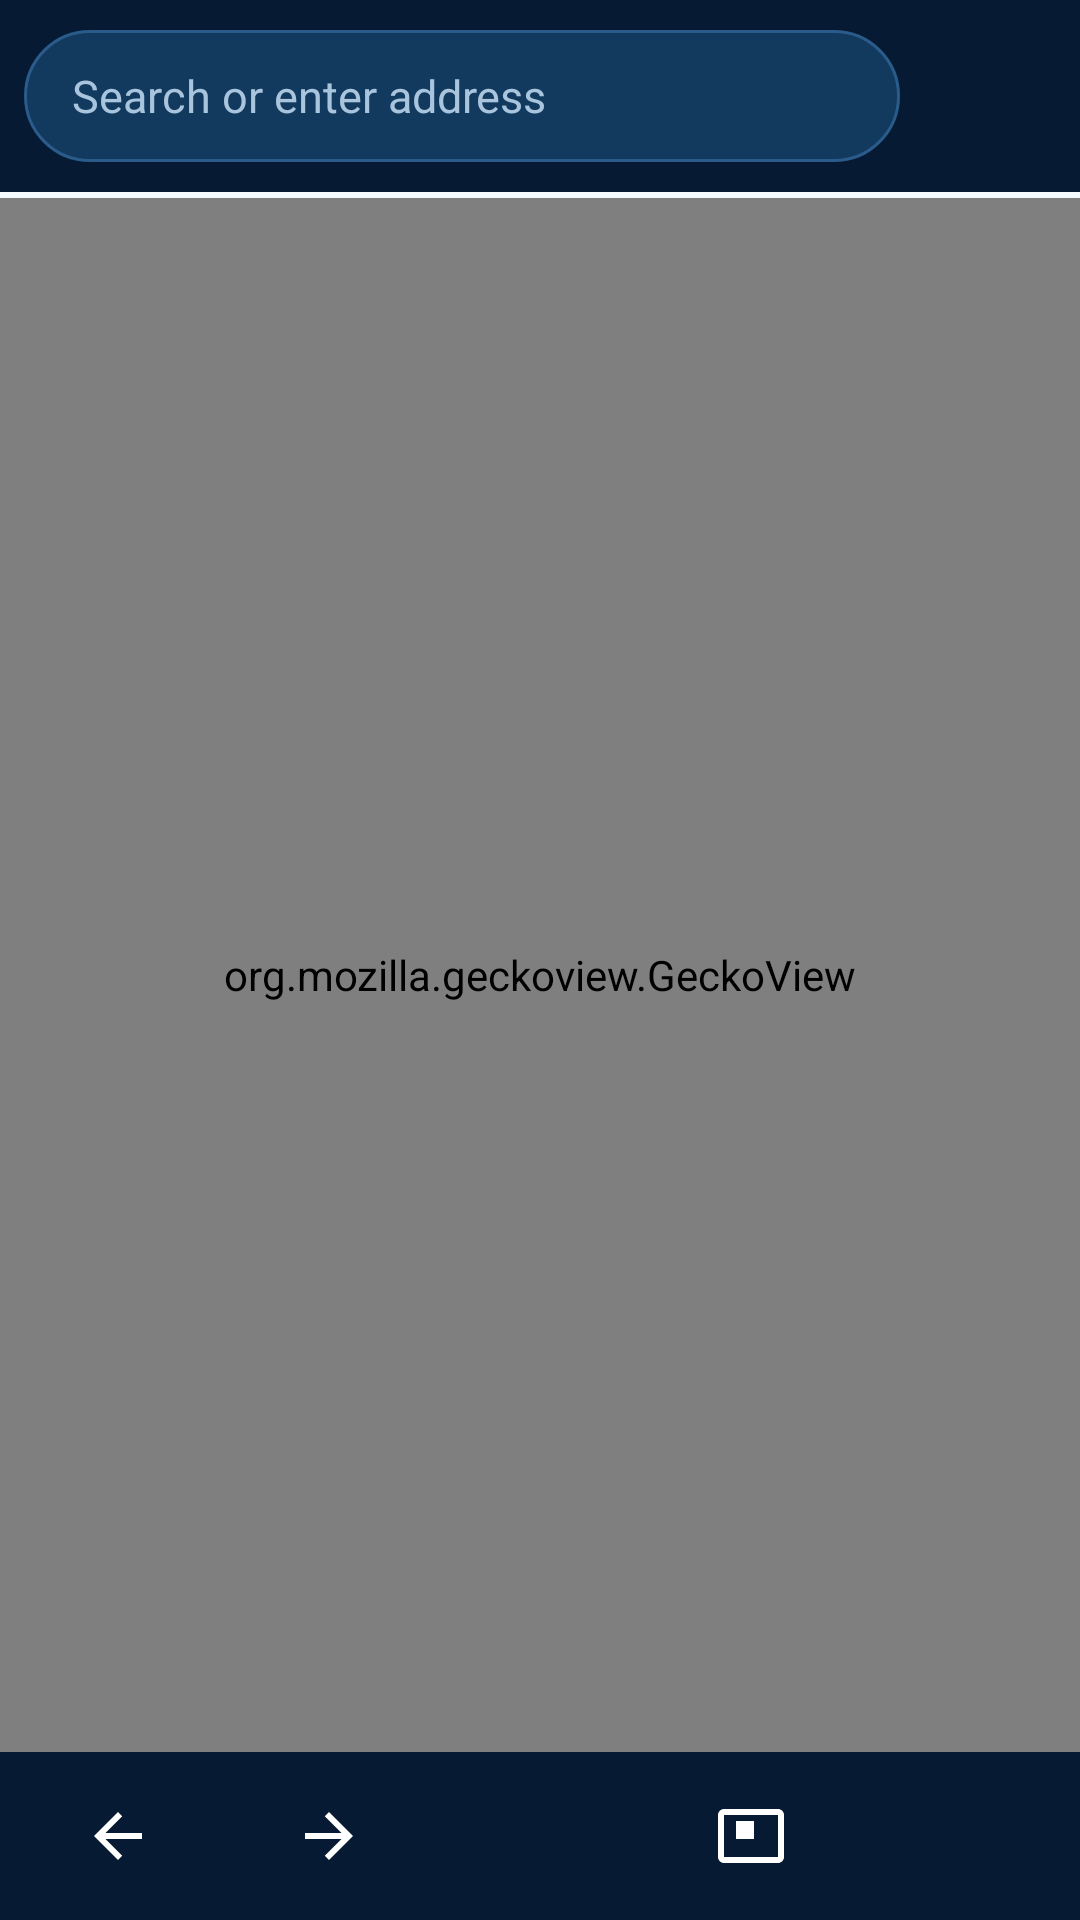

Icons on this 1080*1920 Android screen, each with the point to tap as [x,y]:
Back: [118,1836]
Forward: [329,1836]
Tabs: [751,1836]
